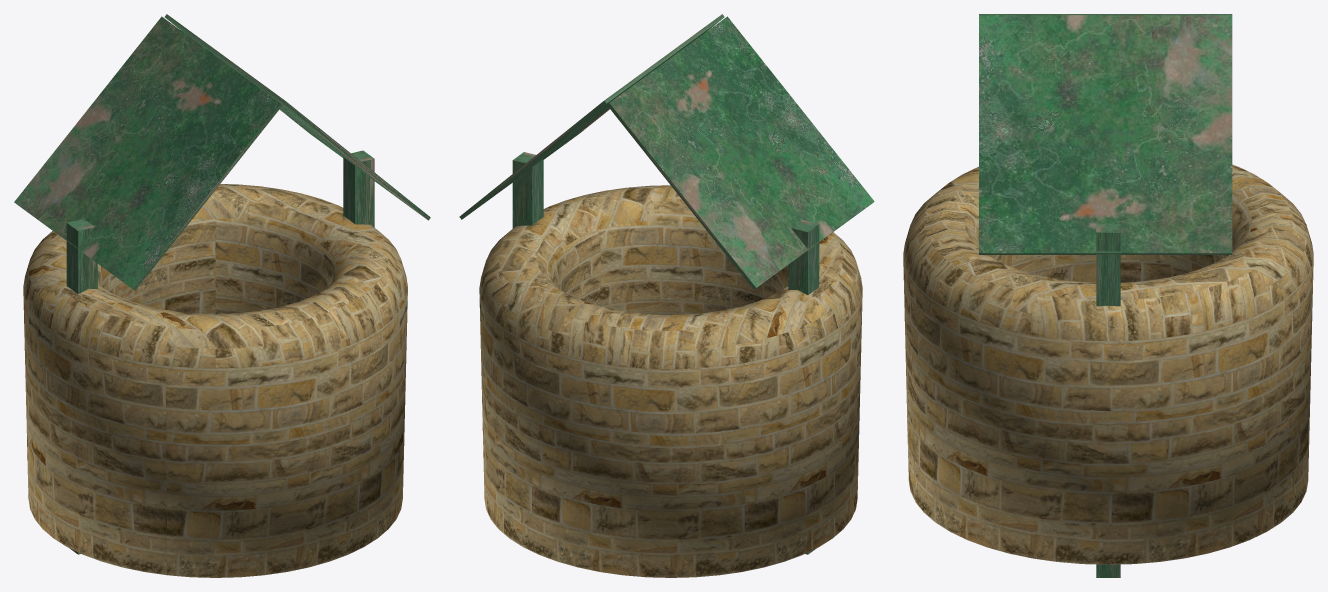
The model's file is well.glb.
3 views of the same model, side by side, from view 1: azimuth 30°, elevation 25°; view 2: azimuth 150°, elevation 25°; view 3: azimuth 270°, elevation 25° (orthographic). The views are drawn at different scales.
Visible parts, largest first — view 1: Torus, Cube.002; view 2: Torus, Cube.002; view 3: Torus, Cube.002.
Boxes of the visible parts, x1,y1,x2,y2 form: Torus: (23,184,407,577); Cube.002: (14,14,430,554); Torus: (479,185,862,577); Cube.002: (459,14,874,554); Torus: (903,164,1313,564); Cube.002: (979,14,1232,577).
Size of the model in its own units: 2.5 by 3.28 by 2.5.
2 materials, 2 textured.
